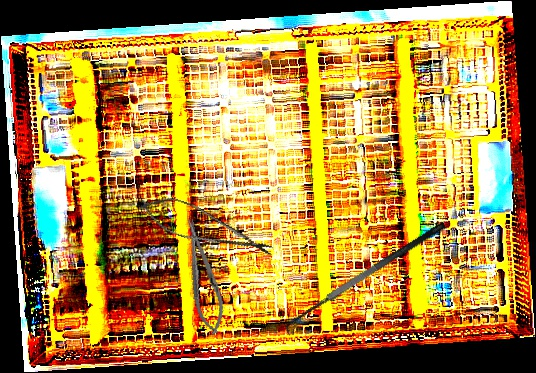Micro Scissor: (133, 187, 279, 267)
Needle Holder: (176, 215, 231, 338)
Spatula Surgical: (279, 220, 455, 341)
